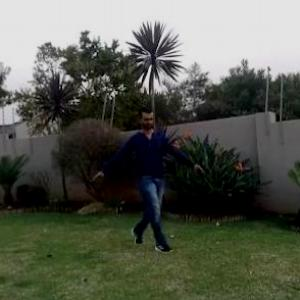land: (97, 109, 195, 234)
